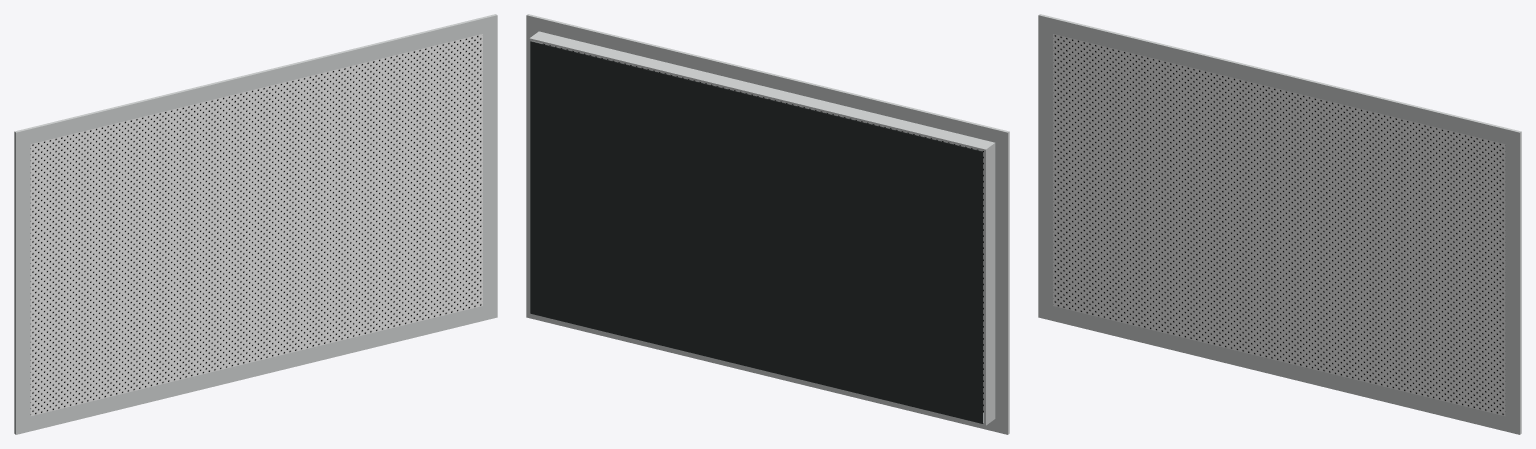
Rendered from ecoclima-egfr-500x300.glb.
3 renders of one model, left to right at view 1: azimuth 30°, elevation 25°; view 2: azimuth 150°, elevation 25°; view 3: azimuth 330°, elevation 25°, orthographic.
Parts seen in each view (by area): view 1: Profile_lamiera_forata, Profile_cornice.109, Profile_cornice.110, Profile_cornice.111, Profile_cornice.112; view 2: Interno.031, Profile_cornice.109, Profile_ritorno.116, Profile_cornice.111, Profile_ritorno.118, Profile_cornice.110, Profile_cornice.112, Profile_lamiera_forata, Profile_ritorno.117, Profile_ritorno.119; view 3: Profile_lamiera_forata, Profile_cornice.109, Profile_cornice.110, Profile_cornice.112, Profile_cornice.111.
Part boxes in pixels (bbox=[...]): Profile_lamiera_forata: bbox=[30, 34, 482, 415]; Profile_cornice.109: bbox=[14, 14, 497, 147]; Profile_cornice.110: bbox=[14, 302, 497, 434]; Profile_cornice.111: bbox=[14, 144, 30, 419]; Profile_cornice.112: bbox=[483, 30, 497, 305]; Interno.031: bbox=[530, 41, 983, 423]; Profile_cornice.109: bbox=[526, 14, 1009, 147]; Profile_ritorno.116: bbox=[529, 31, 995, 151]; Profile_cornice.111: bbox=[995, 145, 1009, 419]; Profile_ritorno.118: bbox=[984, 145, 995, 423]; Profile_cornice.110: bbox=[526, 302, 1009, 434]; Profile_cornice.112: bbox=[526, 30, 541, 302]; Profile_lamiera_forata: bbox=[542, 43, 983, 412]; Profile_ritorno.117: bbox=[529, 312, 995, 425]; Profile_ritorno.119: bbox=[529, 40, 540, 312]; Profile_lamiera_forata: bbox=[1053, 34, 1505, 415]; Profile_cornice.109: bbox=[1038, 14, 1521, 147]; Profile_cornice.110: bbox=[1038, 302, 1521, 434]; Profile_cornice.112: bbox=[1505, 144, 1521, 419]; Profile_cornice.111: bbox=[1038, 30, 1052, 305].
Size of the model in its own units: 0.5 by 0.3 by 0.022.
Materials: 3 (1 with a texture image).
